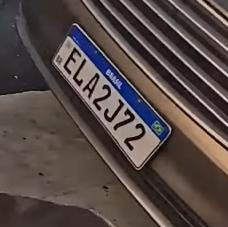Placa_mercosul_carro: (52, 25, 172, 169)
